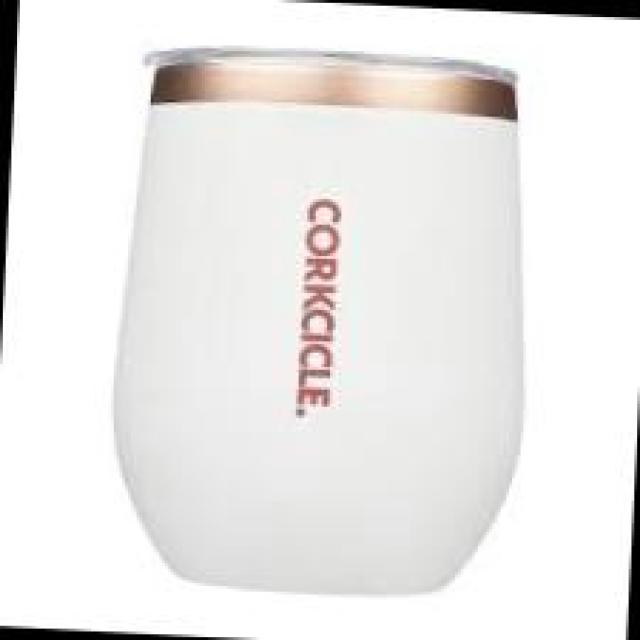bottle: (104, 32, 536, 598)
